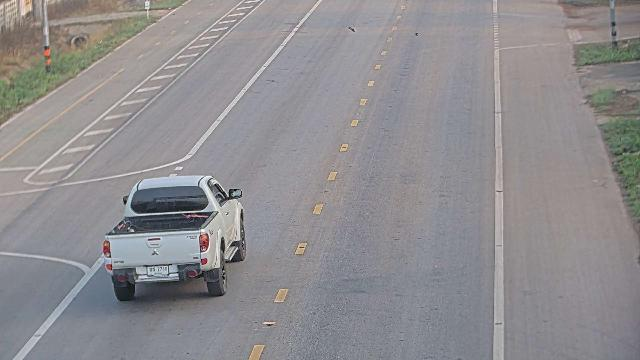pickup-truck: (102, 174, 247, 301)
